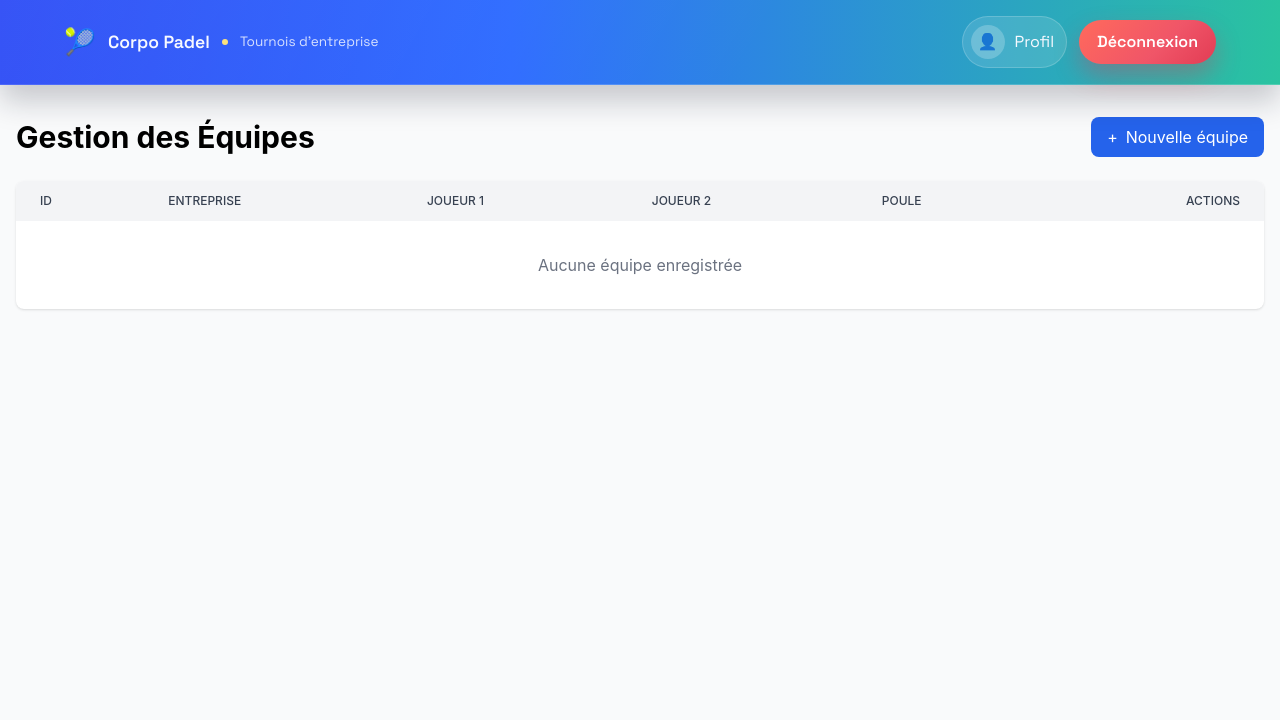
Test case: Gestion des equipes › cree une equipe valide
Click the button "+ Nouvelle équipe": (1178, 137) left=1091, top=117, right=1264, bottom=157
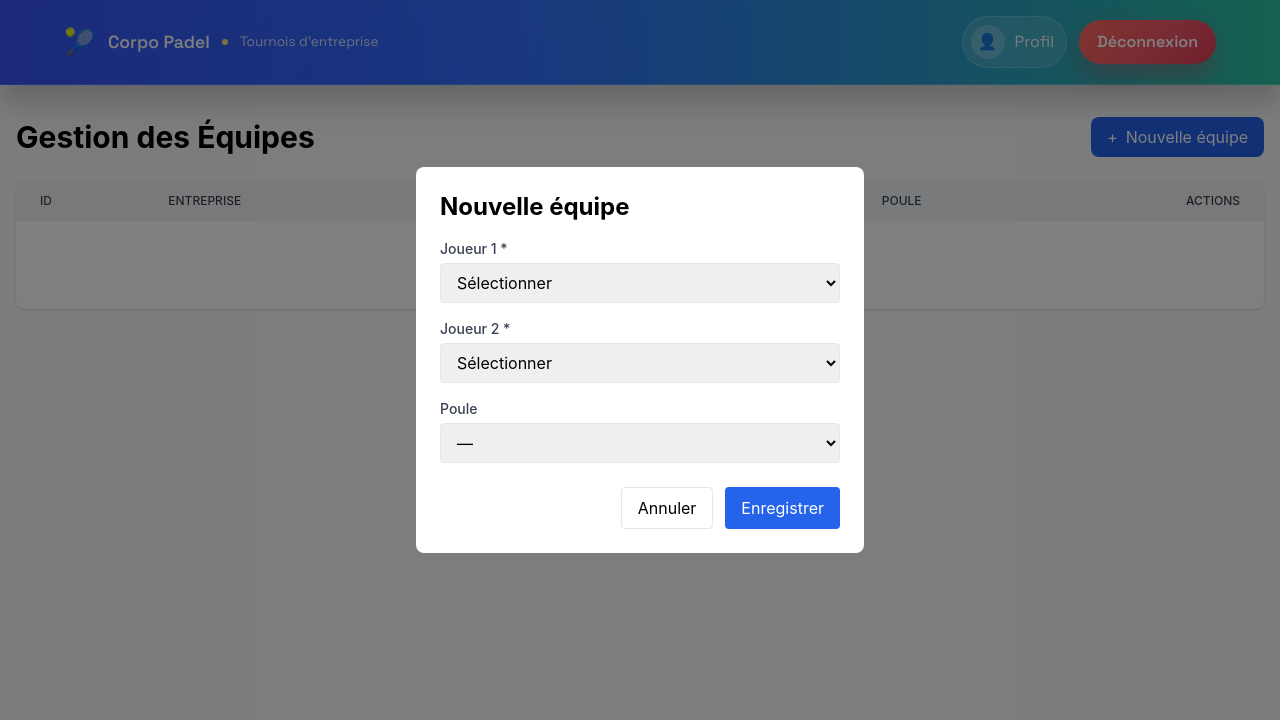
Select "Alex Stone (Alpha)" in the dropdown below "Joueur 1 *": (640, 283) left=440, top=263, right=840, bottom=303
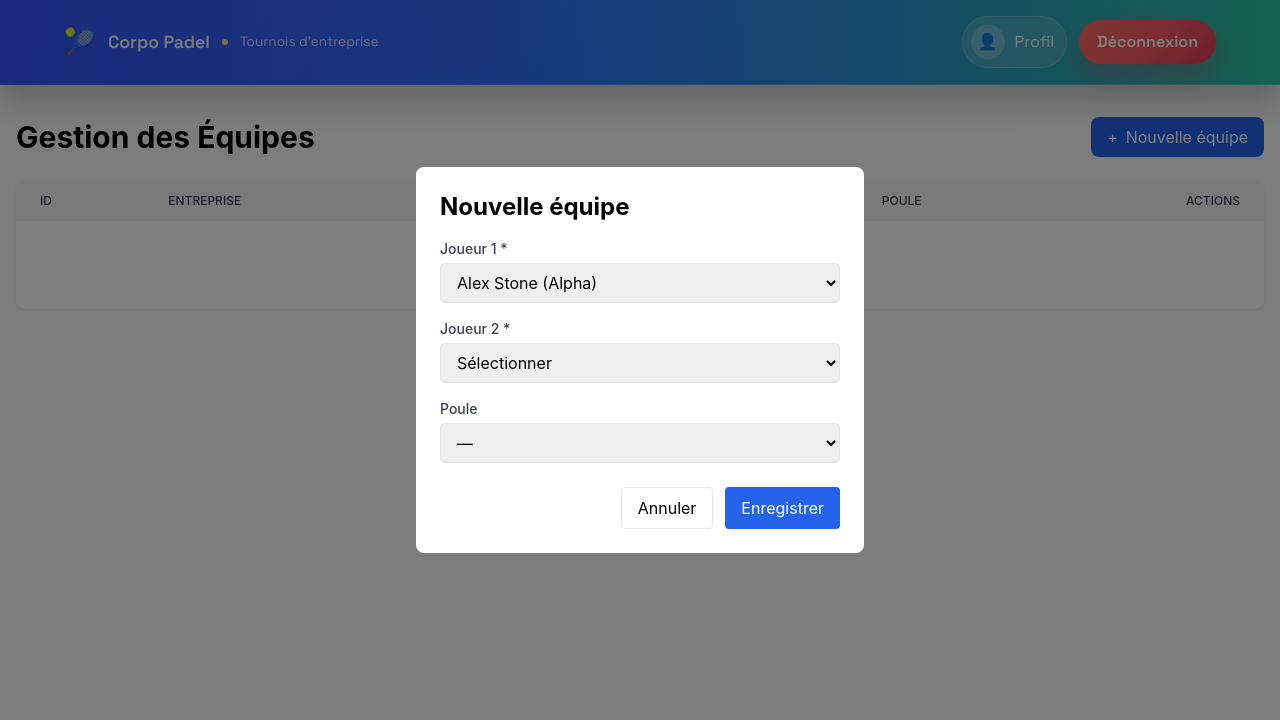
Select "Blake Stone (Alpha)" in the dropdown below "Joueur 2 *": (640, 363) left=440, top=343, right=840, bottom=383
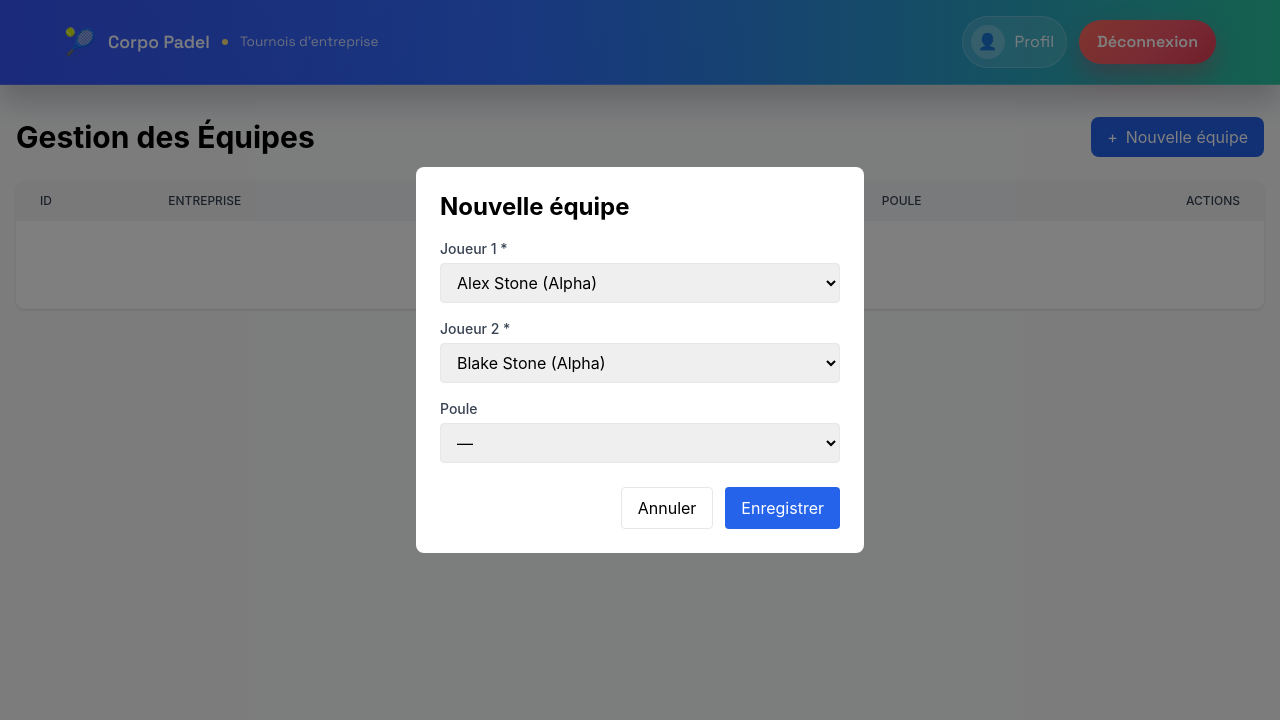
Select "Poule A (0/6)" in the 3rd dropdown: (640, 443) left=440, top=423, right=840, bottom=463
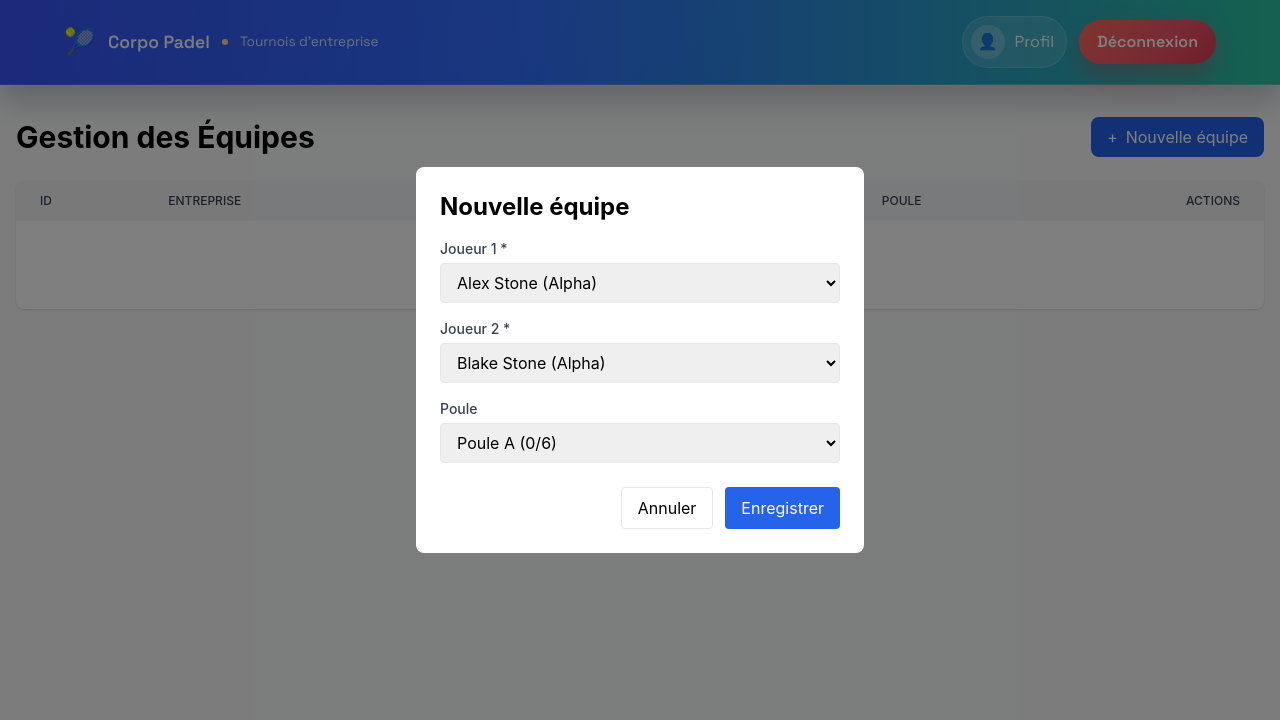
Click the submit button: (783, 508) left=725, top=487, right=840, bottom=529
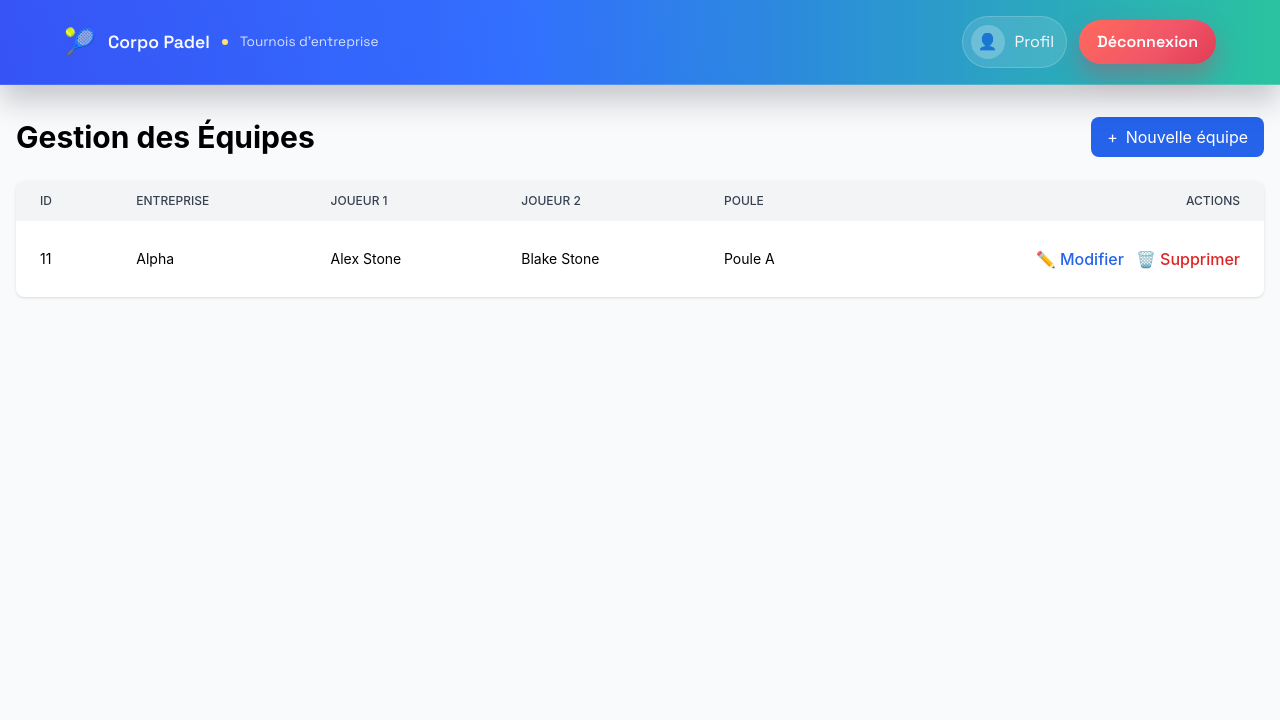
Result: the text "Alpha" is shown at left=112, top=221, right=306, bottom=297
